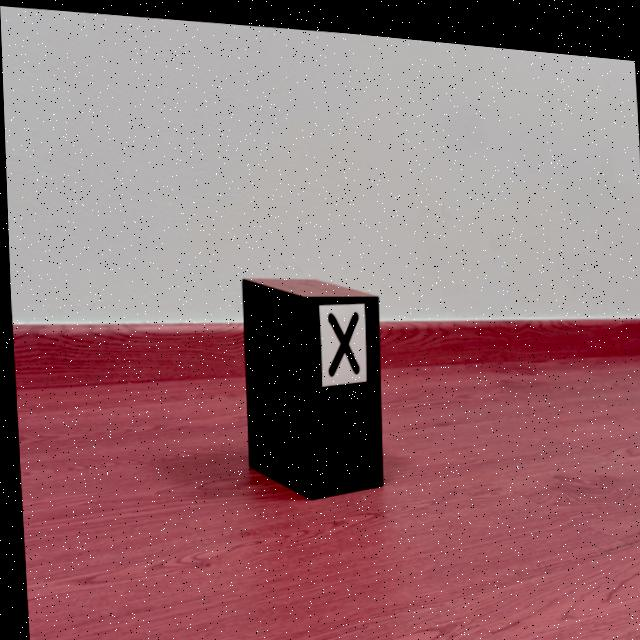X: (325, 304, 356, 369)
